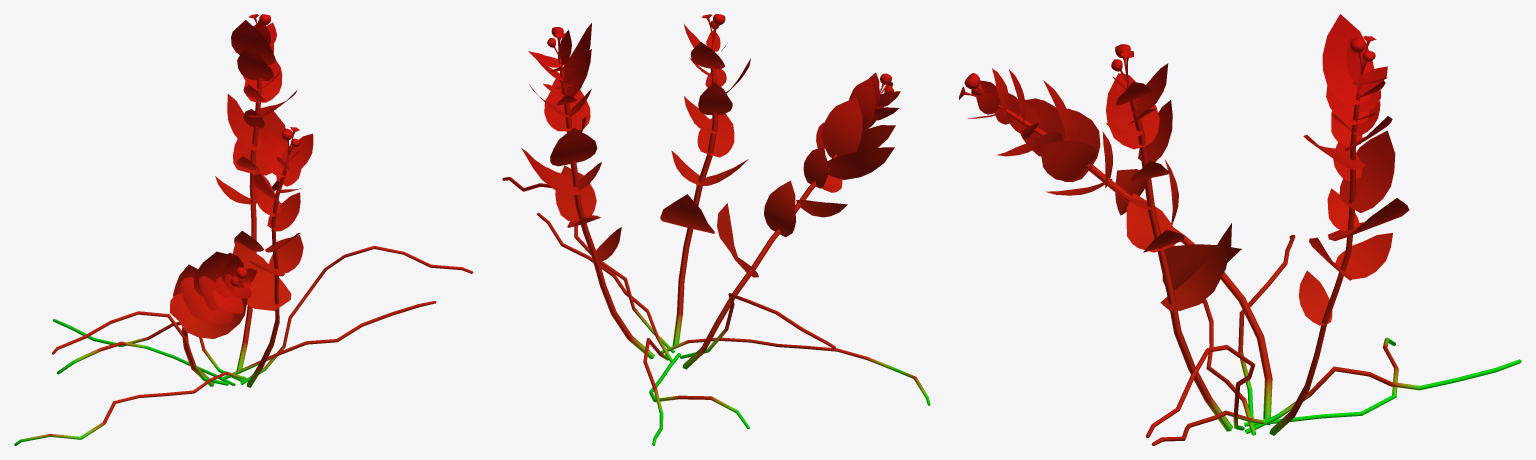
File: Rubber Bush_LOD2_Var13_xffhfekia.fbx
The picture shows the model from 3 angles, left to right: view 1: azimuth 30°, elevation 25°; view 2: azimuth 150°, elevation 25°; view 3: azimuth 270°, elevation 25°; orthographic projection. The views are drawn at different scales.
Parts seen in each view (by area): view 1: _n0md_Var13_LOD2; view 2: _n0md_Var13_LOD2; view 3: _n0md_Var13_LOD2.
Part boxes in pixels (x1,y1,x2,y2): _n0md_Var13_LOD2: (14, 14, 473, 445); _n0md_Var13_LOD2: (502, 14, 930, 445); _n0md_Var13_LOD2: (959, 14, 1521, 445).
Bounding box in the file's own units: 119 × 87.79 × 100.
